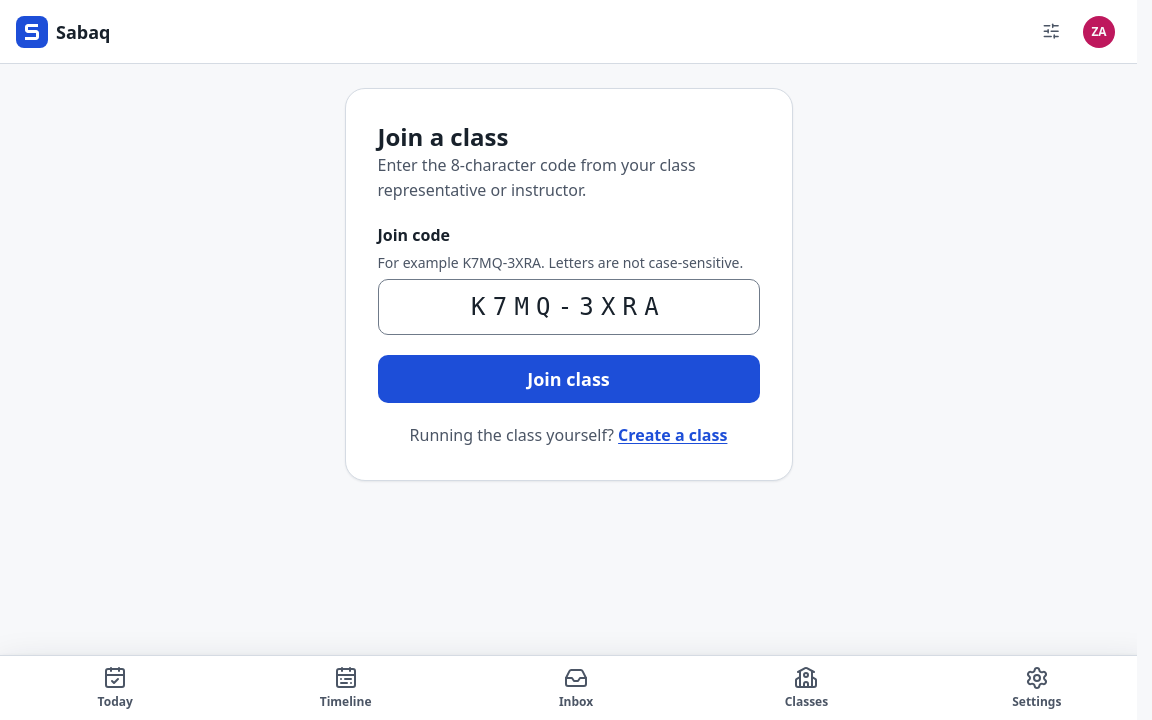
it: joining › says so when you are already in the class
Check: the heading "Join a class" is shown, box 378,120 -> 508,153
Check: the field labelled "Join code" holds "K7MQ-3XRA", box 378,279 -> 760,335
What coordinates should you click on to do the following:
click the button "Join class"
I would click on:
 (568, 379)
Its box is 378,355 -> 760,403.
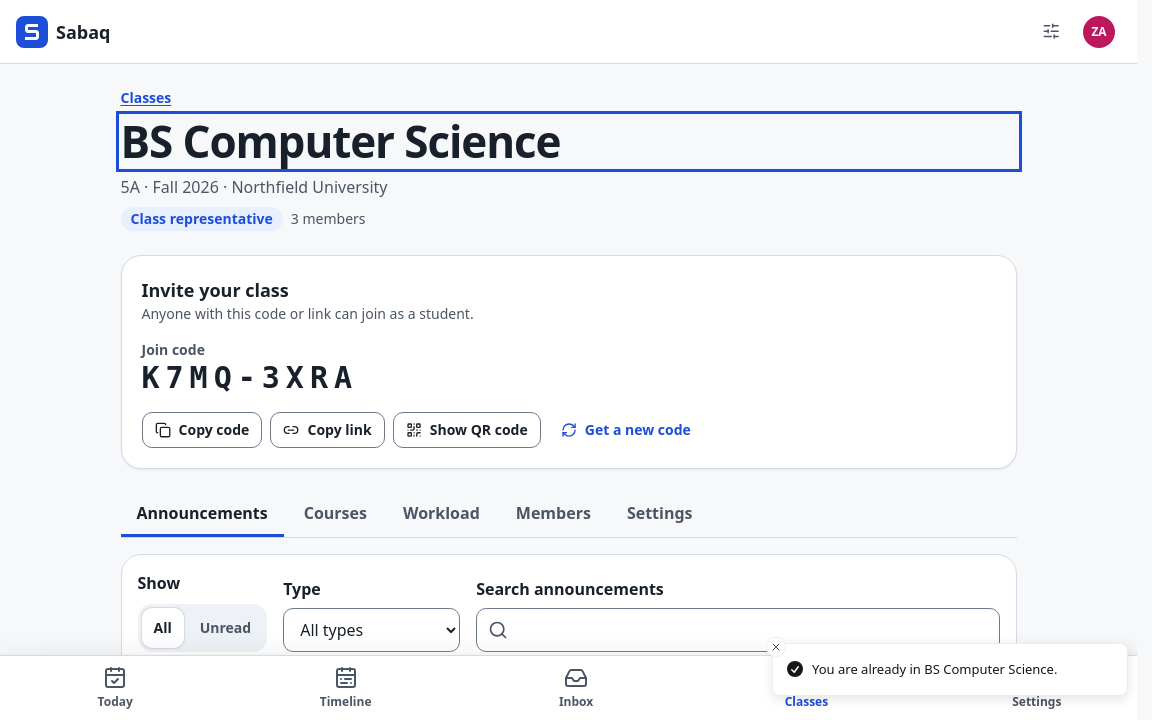
Check: the text "You are already in BS Computer Science." is shown, box 812,660 -> 1057,679
